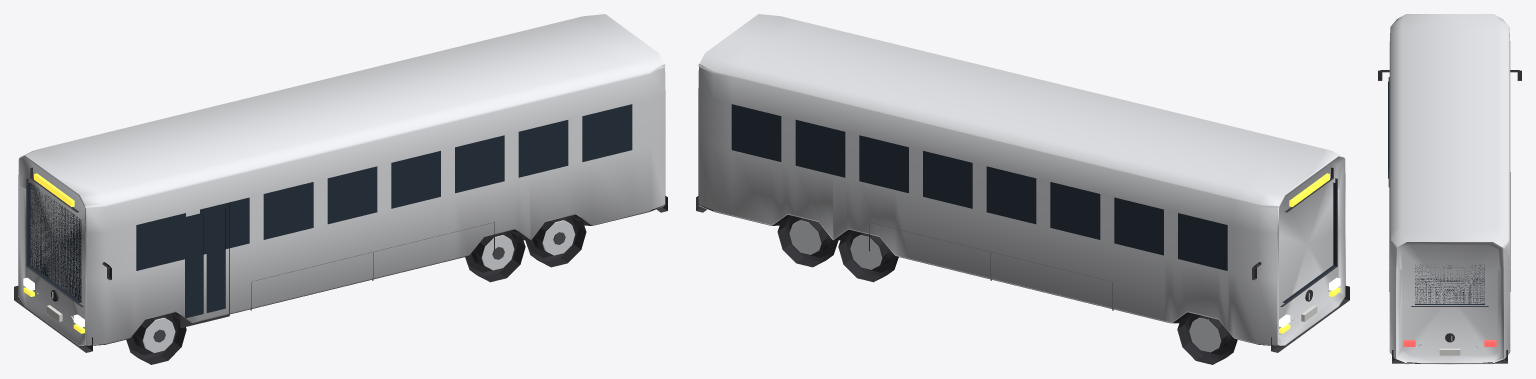
The model's file is bus_alpine.glb.
3 renders of one model, left to right at view 1: azimuth 30°, elevation 25°; view 2: azimuth 150°, elevation 25°; view 3: azimuth 270°, elevation 25°, orthographic. The views are drawn at different scales.
Size of the model in its own units: 1.9 by 0.5581 by 0.5037.
